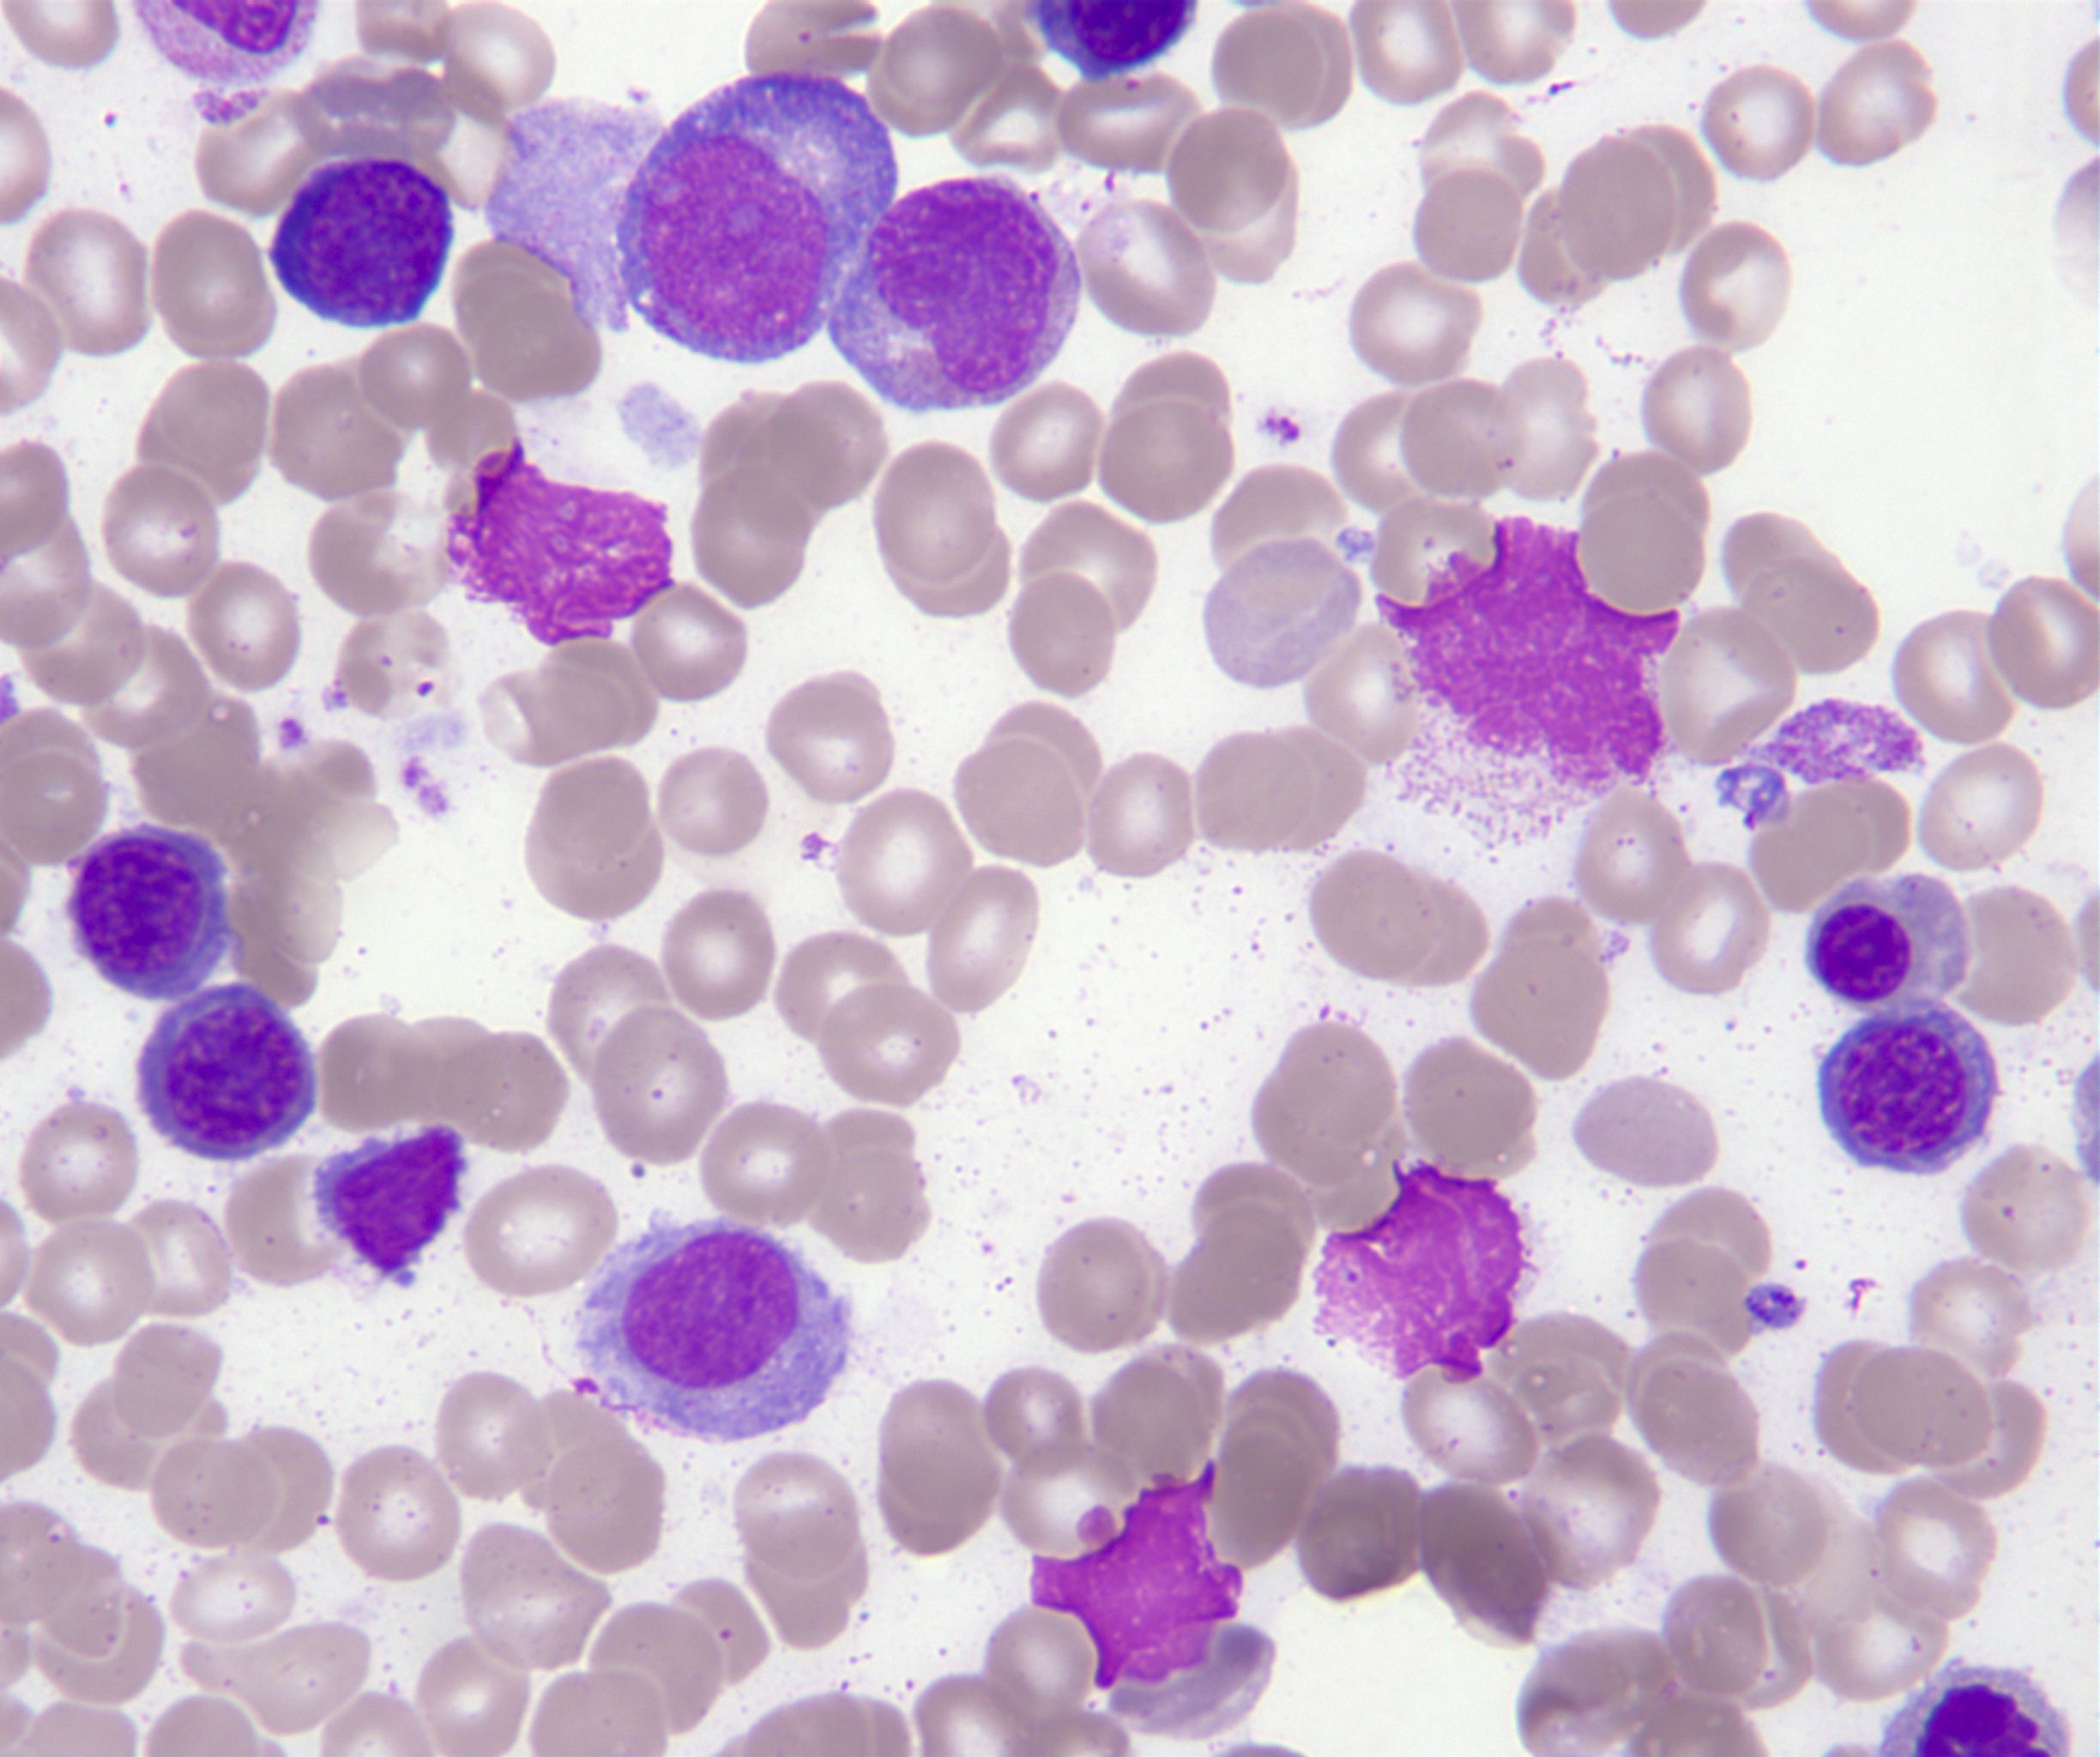1: (623, 72, 895, 363)
22: (269, 157, 452, 326)
23: (1817, 1002, 1999, 1178), (140, 984, 314, 1160), (65, 824, 232, 998)
24: (1803, 874, 1971, 1019)
3: (830, 178, 1078, 410)
32: (314, 1127, 464, 1289)
x: (1374, 515, 1681, 841), (577, 1221, 849, 1445), (1033, 1457, 1240, 1691), (445, 438, 678, 644), (1315, 1166, 1519, 1385), (1878, 1665, 2070, 1757), (134, 2, 317, 80), (1029, 2, 1197, 84)
